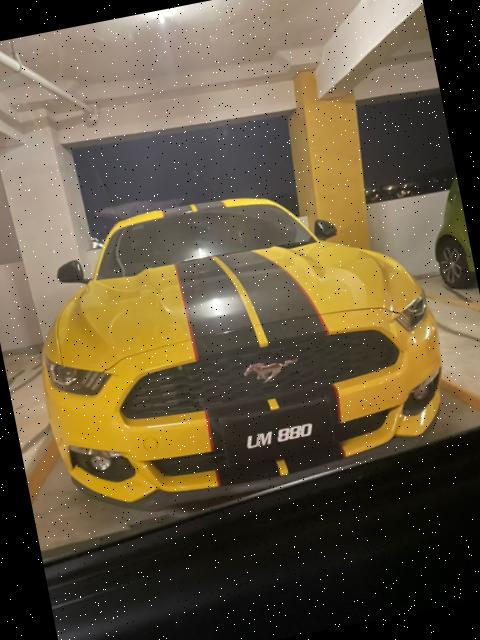License_Plate: (222, 406, 330, 461)
car: (16, 144, 469, 528)
